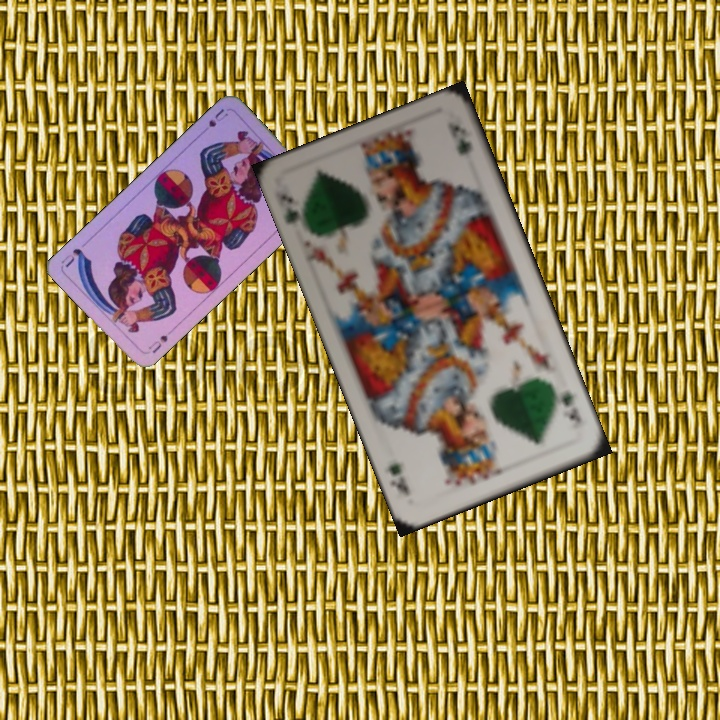GK: (555, 385, 584, 432), (276, 190, 301, 227)
SU: (196, 104, 231, 136), (144, 331, 170, 356)
